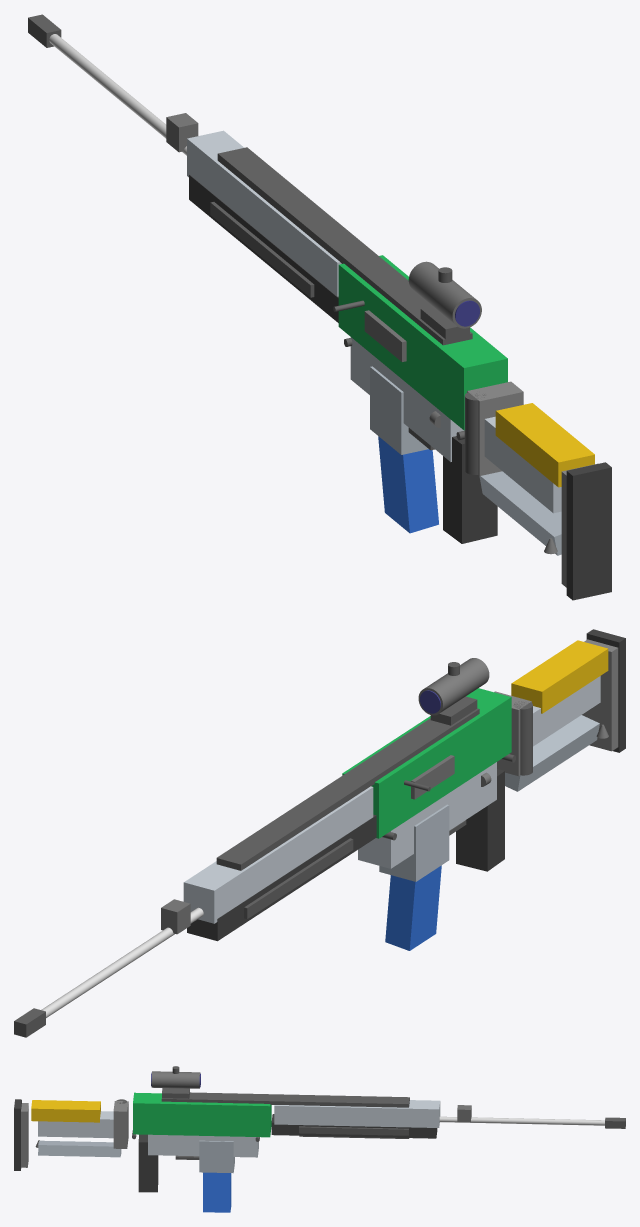
File: animated-model (1) (5).glb
3 renders of one model, top to bottom at view 1: azimuth 30°, elevation 25°; view 2: azimuth 150°, elevation 25°; view 3: azimuth 270°, elevation 25°, orthographic. The views are drawn at different scales.
Visible parts, largest first — view 1: mesh_12, mesh_10, mesh_6, mesh_52, mesh_48, mesh_30, mesh_32, mesh_26, mesh_46, mesh_28, mesh_44, mesh_8 (+8 smaller); view 2: mesh_12, mesh_6, mesh_10, mesh_48, mesh_26, mesh_30, mesh_32, mesh_8, mesh_46, mesh_28, mesh_50, mesh_44 (+10 smaller); view 3: mesh_12, mesh_6, mesh_10, mesh_26, mesh_48, mesh_44, mesh_46, mesh_8, mesh_30, mesh_28, mesh_32, mesh_0 (+8 smaller).
Boxes of the visible parts, x1,y1,x2,y2 form: mesh_12: (338,255,507,430); mesh_10: (217,147,472,345); mesh_6: (187,130,341,296); mesh_52: (566,462,611,600); mesh_48: (495,403,594,487); mesh_30: (378,436,438,533); mesh_32: (443,436,497,543); mesh_26: (350,337,464,461); mesh_46: (479,471,561,555); mesh_28: (370,366,428,454); mesh_44: (484,416,561,513); mesh_8: (189,174,338,322); mesh_12: (342,688,511,838); mesh_6: (183,786,373,923); mesh_10: (216,708,479,870); mesh_48: (511,640,608,713); mesh_26: (358,762,496,868); mesh_30: (385,865,441,950); mesh_32: (456,769,504,871); mesh_8: (187,814,376,941); mesh_46: (505,715,599,791); mesh_28: (379,804,449,881); mesh_50: (582,639,618,751); mesh_44: (533,676,600,746); mesh_12: (133,1092,271,1137); mesh_6: (274,1100,440,1127); mesh_10: (161,1092,409,1107); mesh_26: (148,1134,258,1157); mesh_48: (31,1100,100,1122); mesh_44: (38,1111,113,1138); mesh_46: (38,1140,121,1157); mesh_8: (271,1114,437,1138); mesh_30: (203,1172,231,1212); mesh_28: (199,1140,234,1173); mesh_32: (138,1134,158,1192); mesh_0: (439,1116,604,1125).
Bounding box in the file's own units: 0.2509 × 0.7619 × 3.
